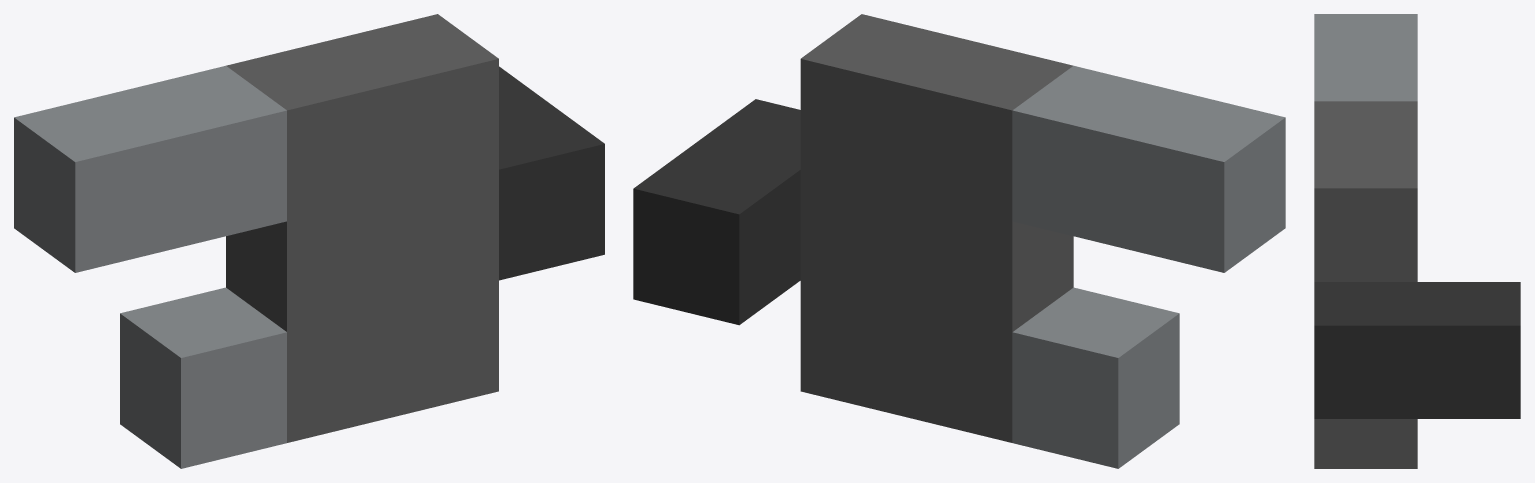
The model's file is Other-15.obj.
3 views of the same model, side by side, from view 1: azimuth 30°, elevation 25°; view 2: azimuth 150°, elevation 25°; view 3: azimuth 270°, elevation 25° (orthographic). The views are drawn at different scales.
Bounding box in the file's own units: 0.5 × 0.3 × 0.2.
Materials: 1 (1 with a texture image).
